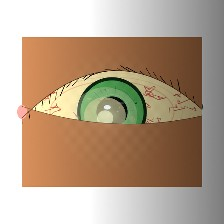corneal_ulcer: (71, 88, 139, 142)
